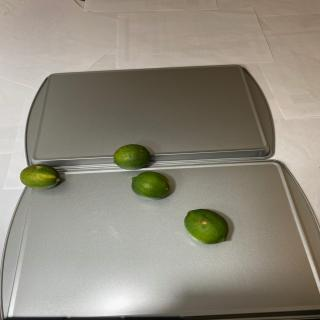Chilli: (184, 208, 229, 244)
Lemon: (131, 171, 171, 200), (20, 164, 60, 190), (113, 144, 151, 170)
